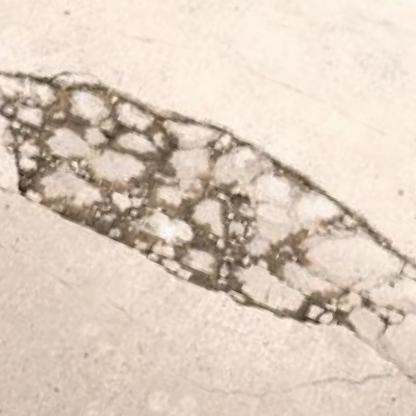pothole: (0, 15, 416, 411)
